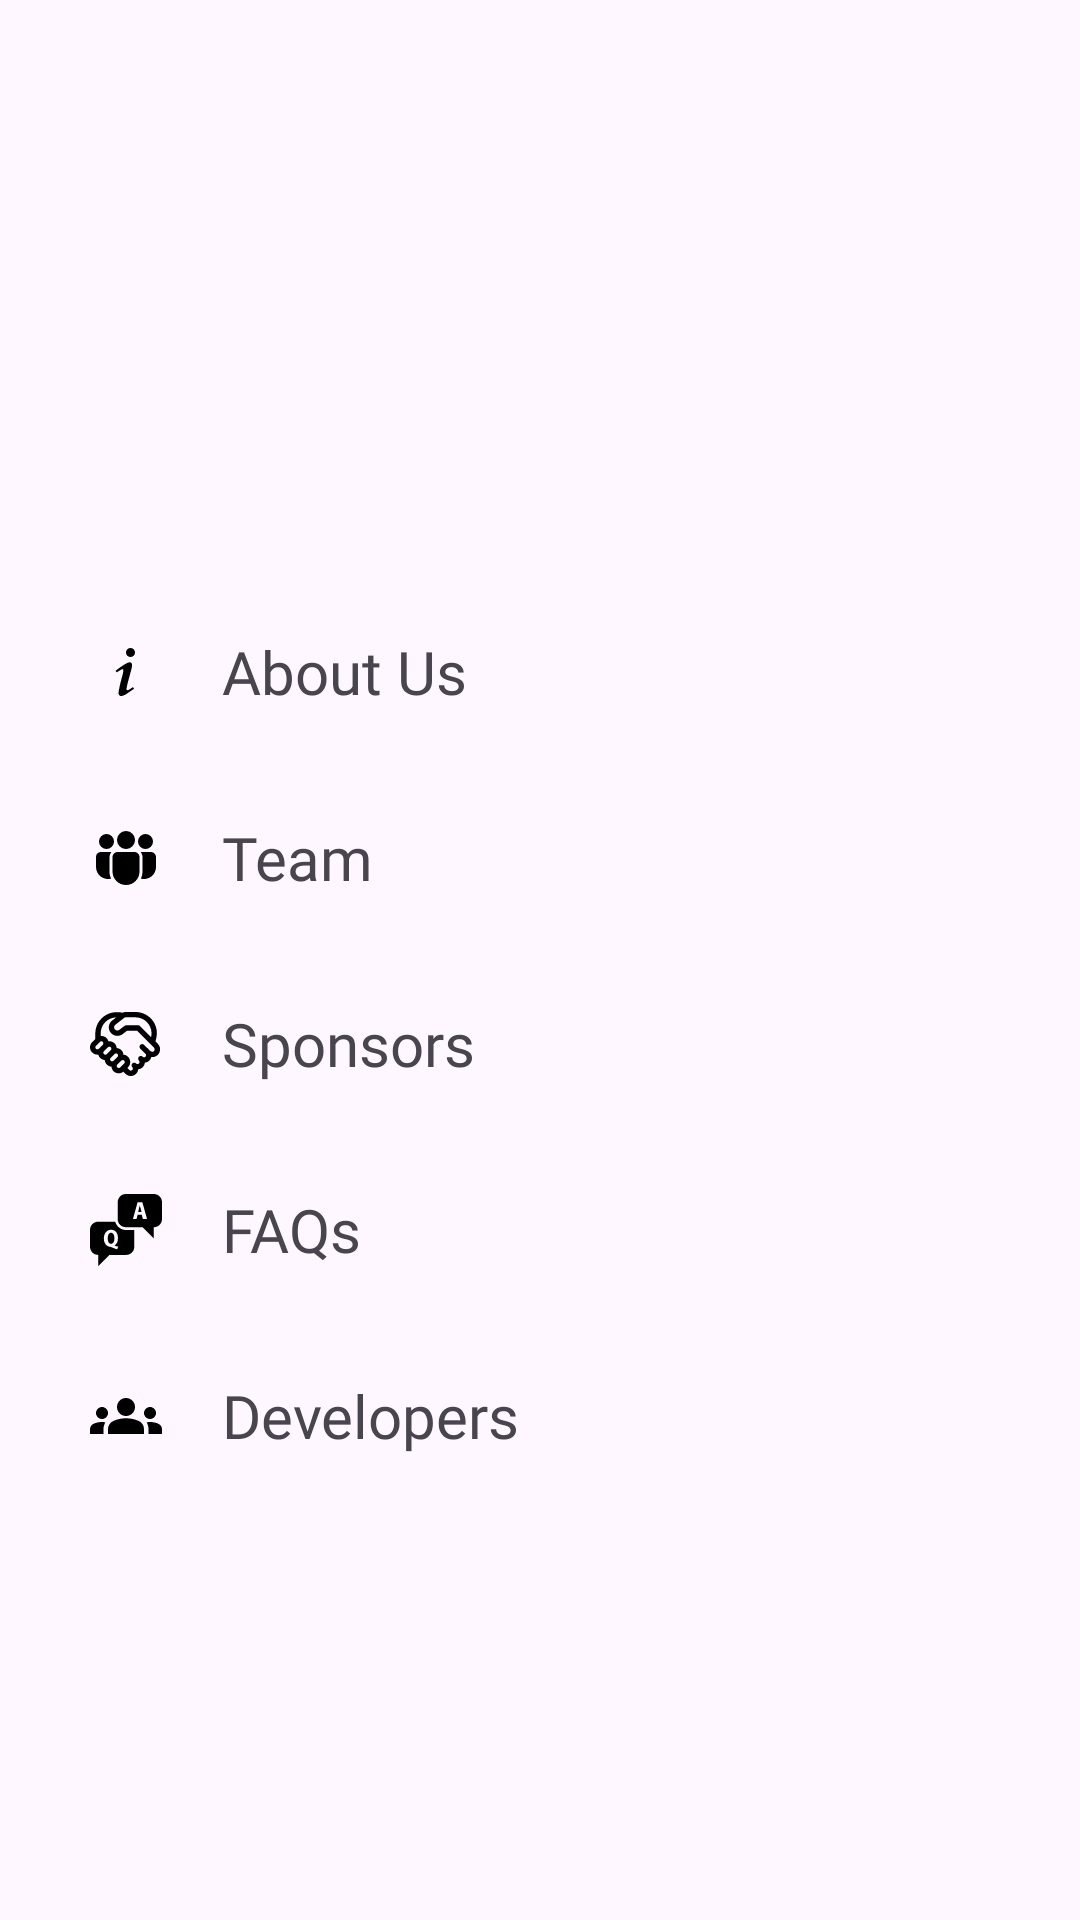

Where to tap for icons on this 1080*1920 app screen, as [x,y]:
about variant: [125,672]
faq: [126,1230]
sponsersvg: [125,1044]
